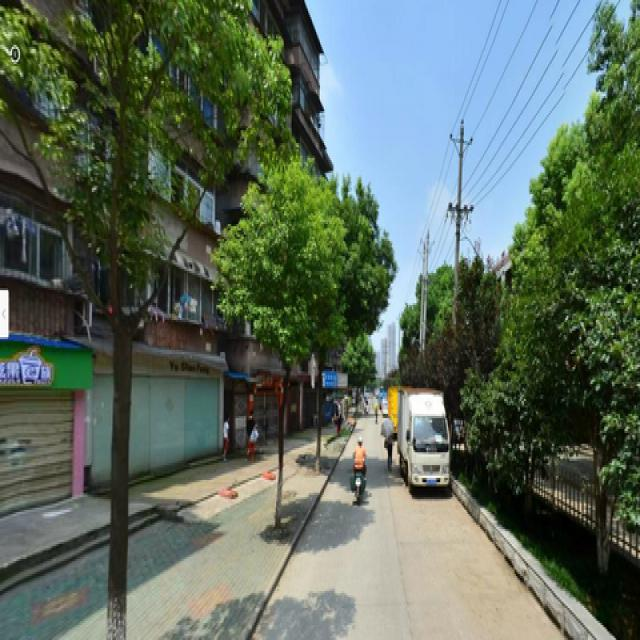cinn: (250, 175, 322, 508)
